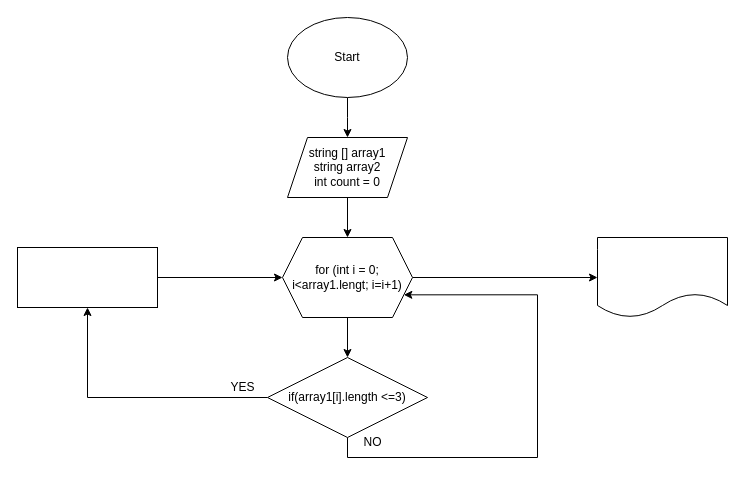
Image size: 745x483. Some labels were removed from this diagram. The shapes that lost their labels are listed below. From the top down, each one's centre as x and y in pixels, then its label:
At [87,277]: "array2 [count] = array1[i] count = count+1".
At [662,277]: "Print array2".
